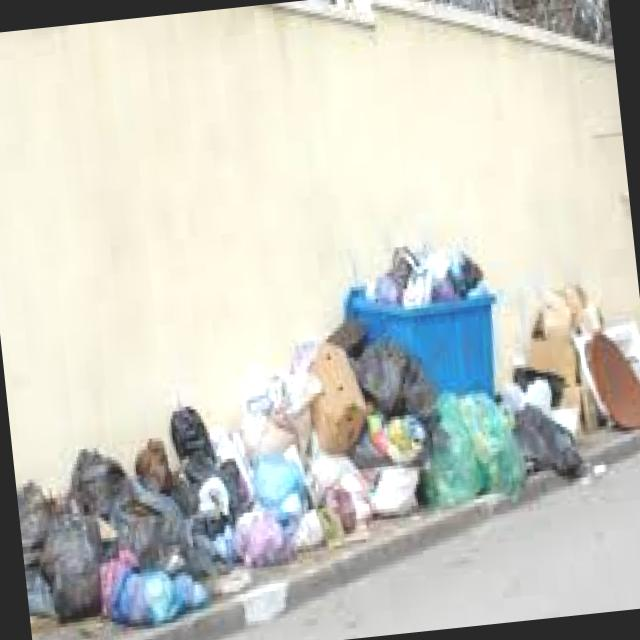garbage: (3, 207, 640, 640)
